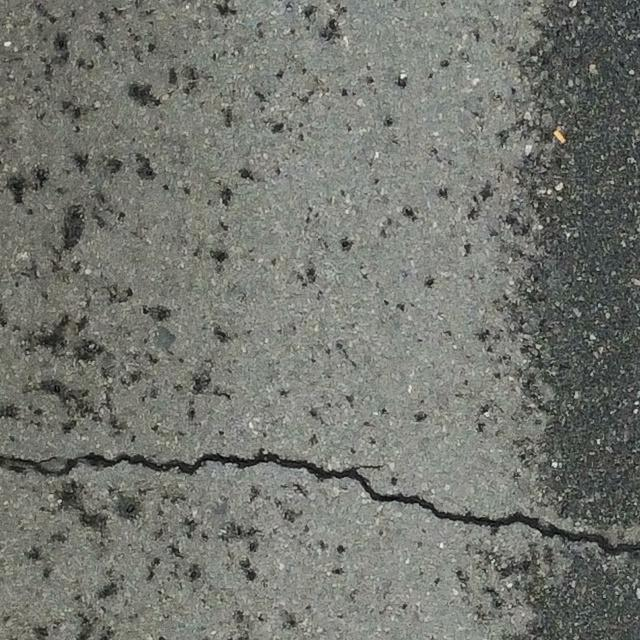TransverseCrack: (1, 449, 640, 555)
